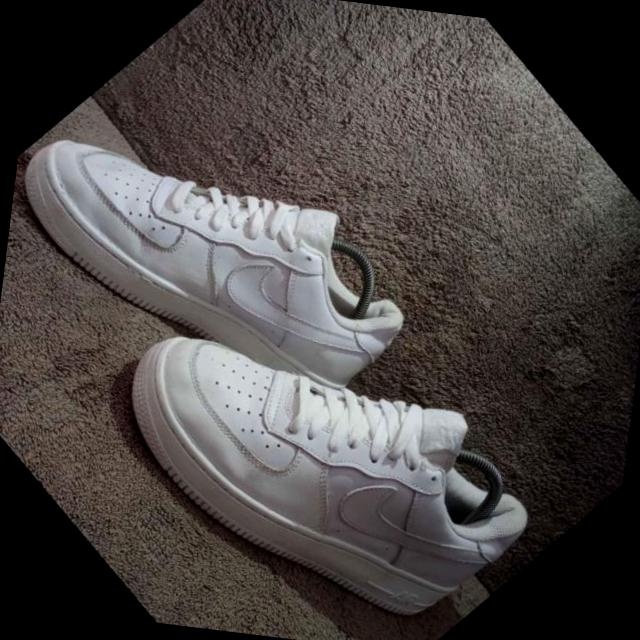nike_original_airforce: (70, 197, 585, 640), (0, 12, 454, 491)
